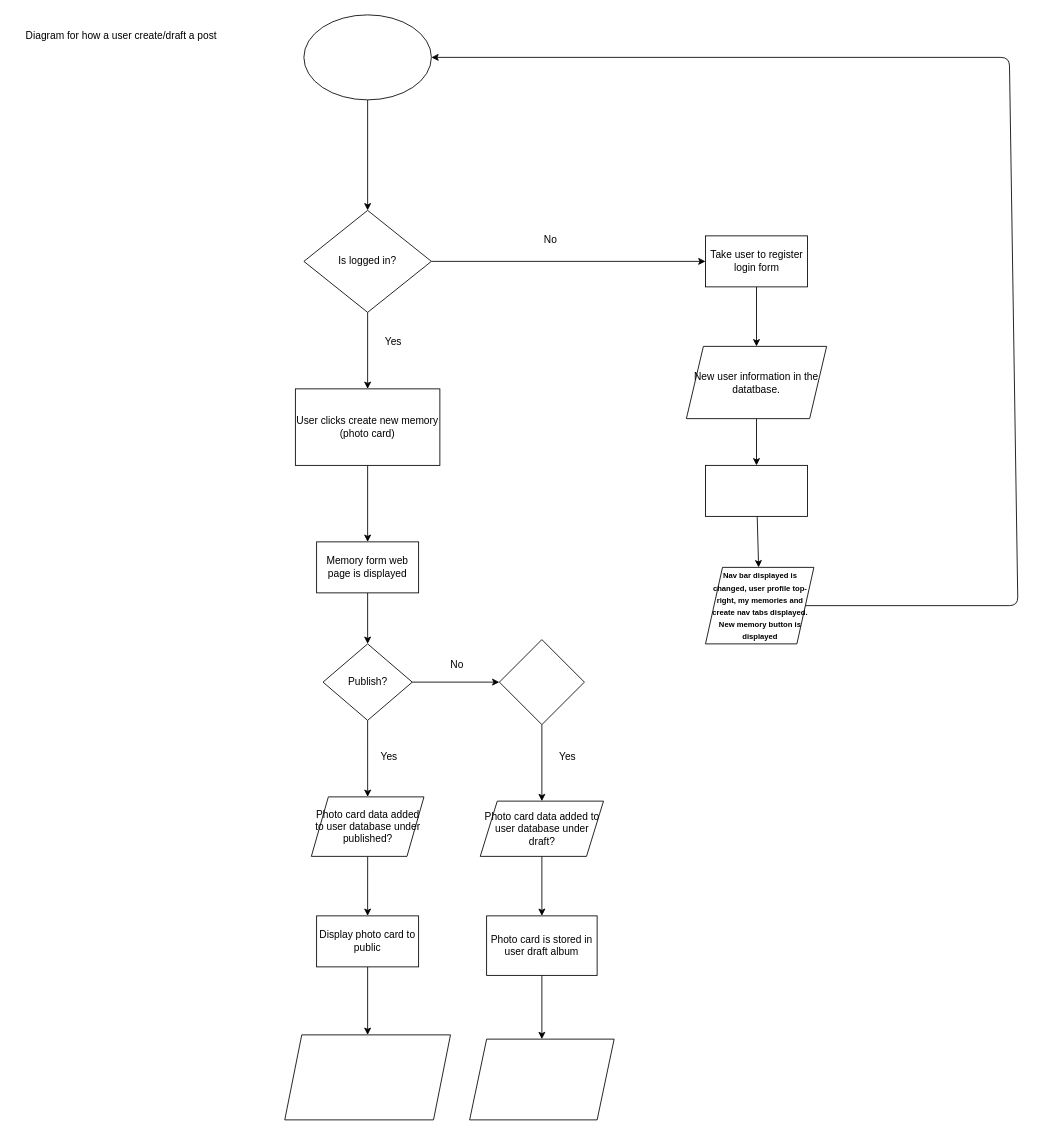
This 1040x1135 diagram has some shape labels left out. Here are the shapes that lost their labels. From the top down, the box of each, then its label:
(303, 14, 431, 100): Start (User is viewing the site)
(705, 465, 808, 516): Webpage shows user is logged in
(499, 639, 584, 725): Draft?
(284, 1034, 450, 1120): Pin/ Photocard shown on map, photocard shown on "my memories", "recent memories
(469, 1038, 614, 1120): Drafted photo card only displayed under my memories tab
